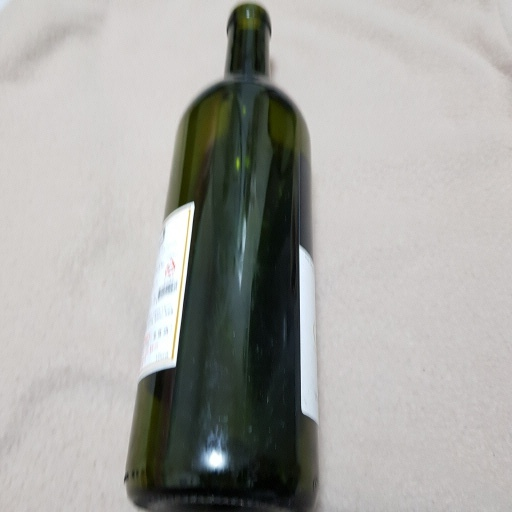Glass_2: (115, 1, 331, 511)
